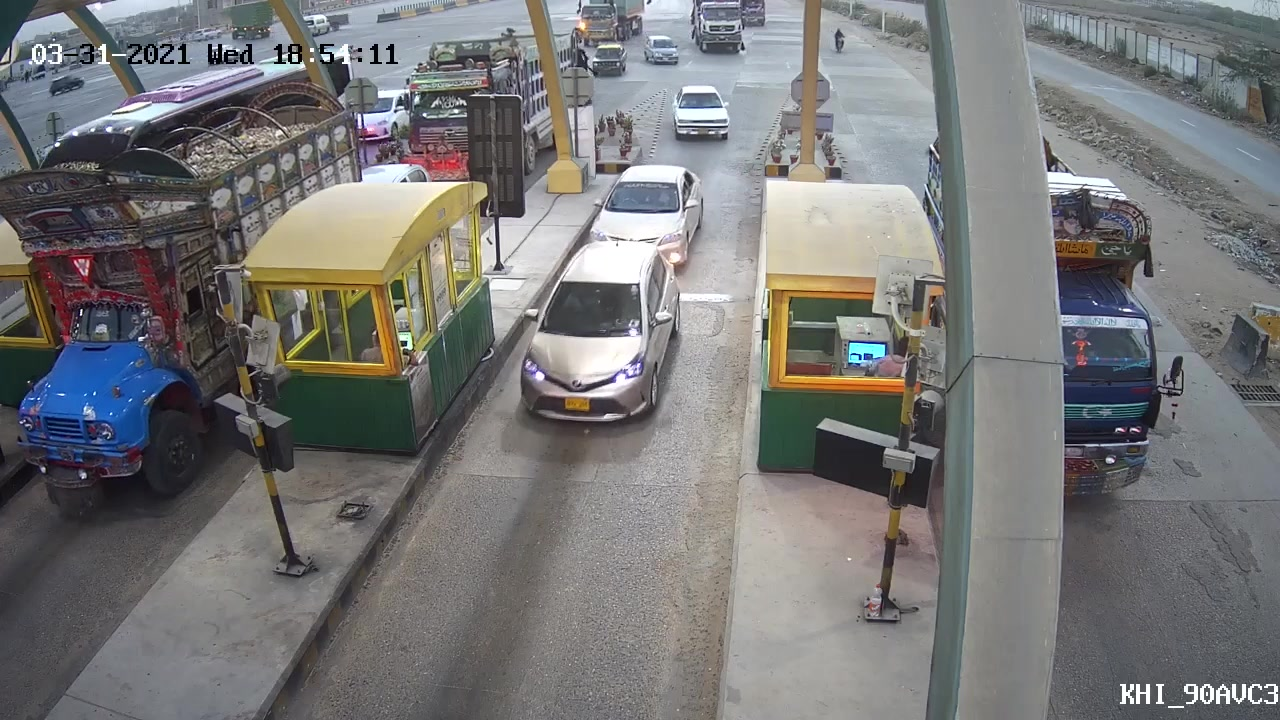F1: (510, 234, 687, 438)
